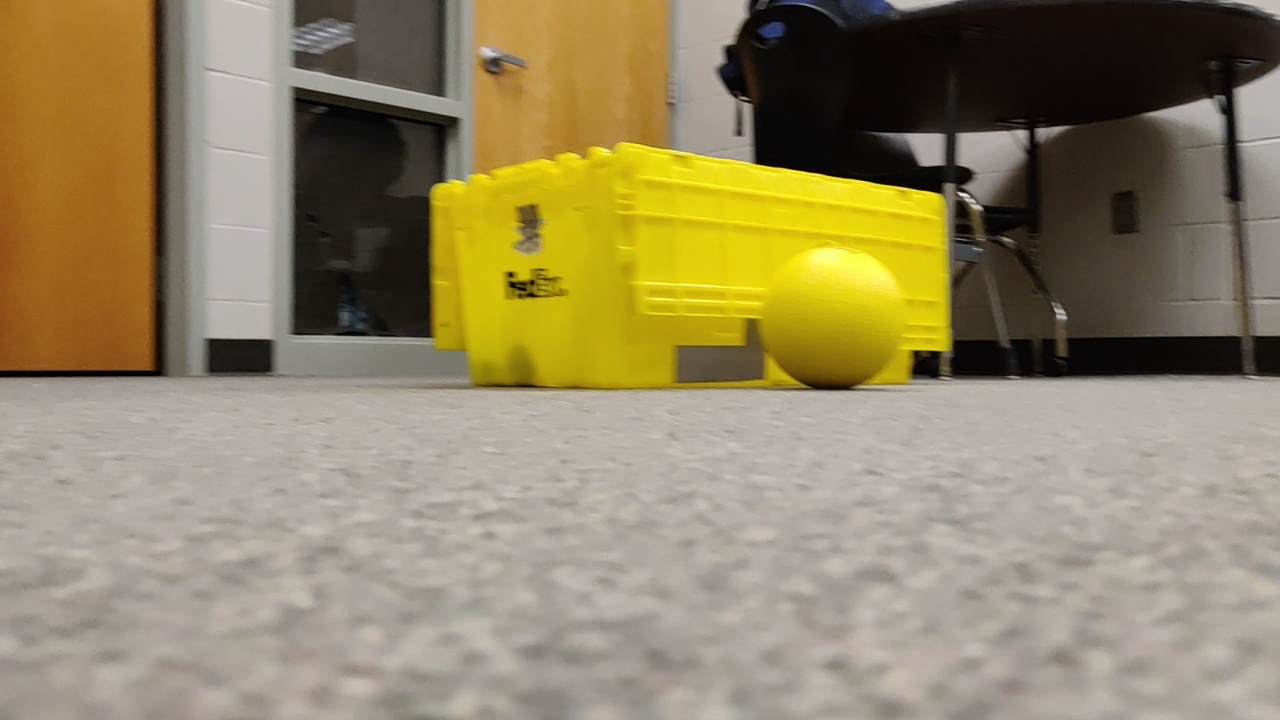Ball: (765, 243, 901, 384)
